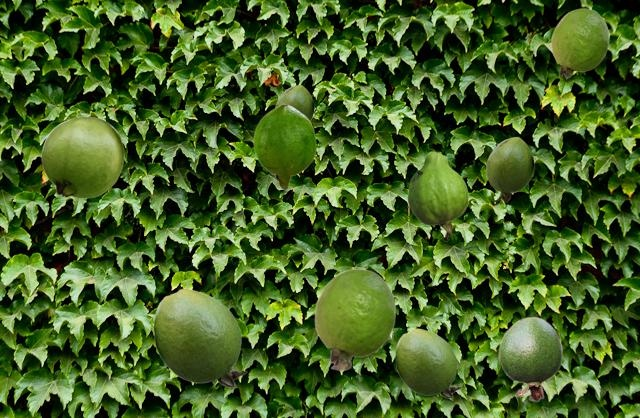guava: (153, 288, 246, 386), (314, 268, 395, 370), (41, 116, 123, 197), (498, 316, 562, 401), (407, 151, 467, 240), (253, 104, 315, 189), (395, 328, 460, 397), (551, 8, 608, 77), (486, 137, 533, 201), (275, 85, 313, 120)
